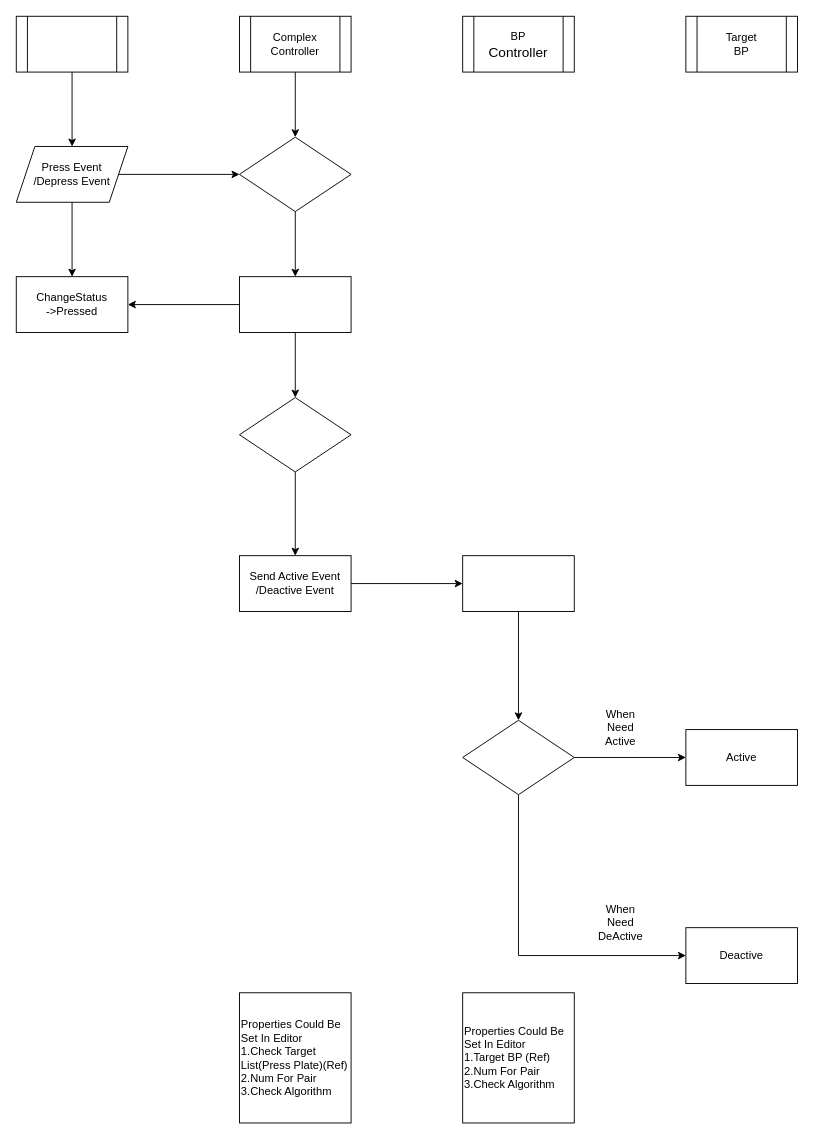
The diagram is 814 pixels wide and 1139 high, and some of its shapes have lost their labels. The centre of each missing label's shape, as x and y in pixels:
"Check All Linked Plate`s Status" belongs at [295,304].
"Check Target Status" belongs at [518,583].
"CheckResult" belongs at [295,434].
"press plate" belongs at [71,43].
"Receive Event" belongs at [295,174].
